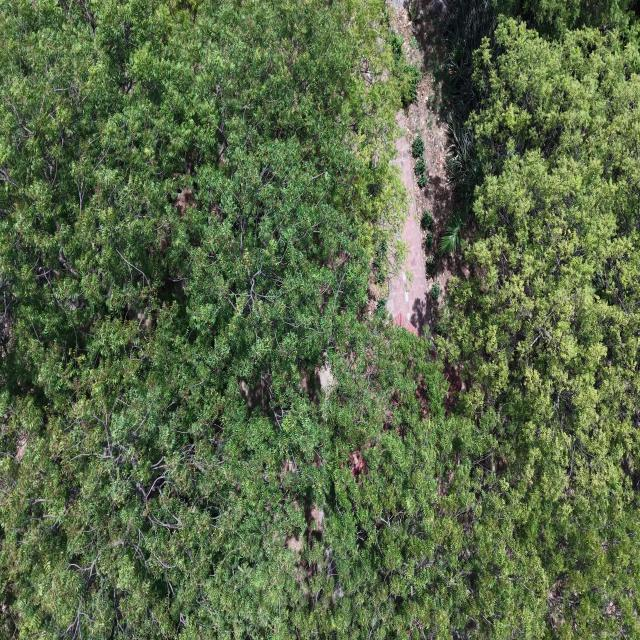DRY_AREA: (388, 0, 459, 334), (387, 136, 428, 332)
VEGETATION_TREE: (0, 0, 639, 639), (0, 0, 434, 637), (438, 19, 639, 637), (443, 0, 637, 235), (494, 0, 634, 38), (388, 30, 420, 106), (440, 213, 466, 254), (399, 64, 420, 107), (412, 136, 428, 188), (412, 136, 425, 159), (421, 210, 434, 230), (415, 157, 426, 177), (430, 282, 441, 300), (426, 256, 436, 275), (417, 173, 428, 188), (425, 231, 434, 248)
